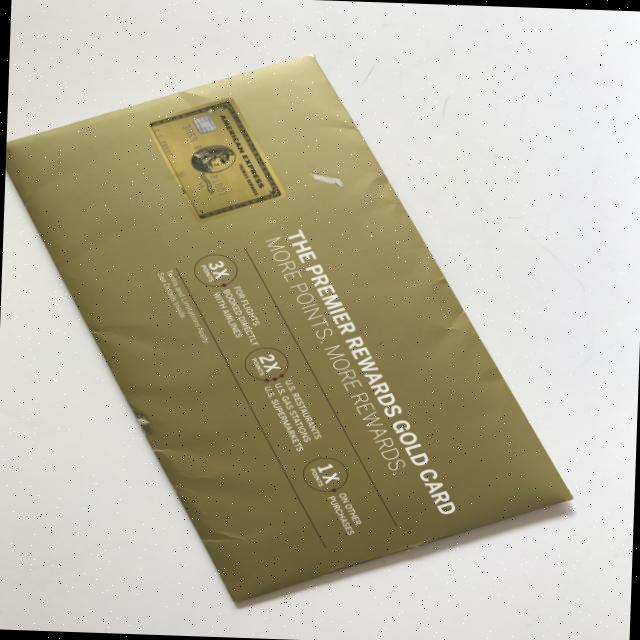paper: (0, 42, 589, 615)
